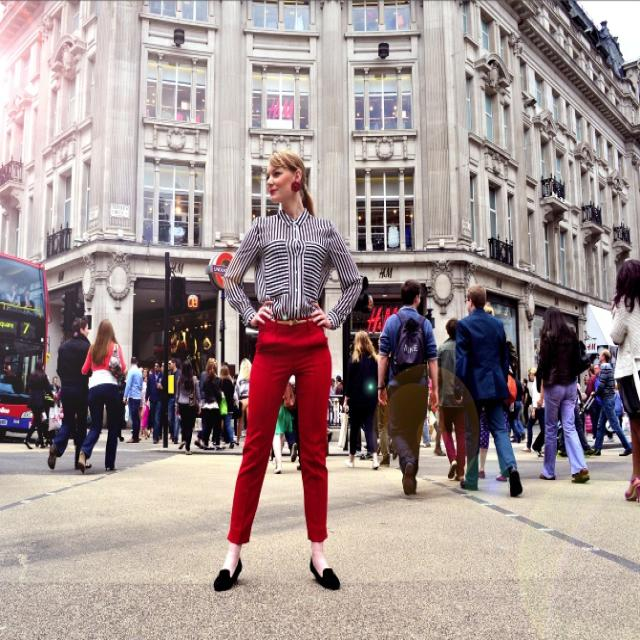body: (207, 148, 366, 598), (450, 281, 526, 498), (376, 275, 442, 498), (534, 303, 592, 486), (76, 316, 127, 473), (45, 313, 94, 472), (609, 255, 639, 508), (478, 308, 512, 484), (342, 328, 381, 472), (588, 346, 634, 458), (438, 316, 467, 484), (376, 331, 400, 467), (21, 357, 55, 451), (558, 381, 596, 457), (270, 381, 298, 476), (174, 358, 201, 455), (198, 359, 224, 452), (520, 365, 546, 455), (588, 363, 616, 443), (194, 356, 218, 449), (120, 354, 144, 446), (589, 363, 616, 444), (232, 357, 253, 447), (104, 365, 128, 442), (144, 360, 165, 444), (219, 363, 237, 450), (166, 358, 184, 444), (506, 369, 526, 444), (530, 364, 546, 457), (219, 359, 236, 443), (419, 408, 446, 456), (512, 376, 527, 442), (283, 405, 300, 462), (572, 401, 588, 453), (522, 377, 533, 429), (19, 290, 34, 328), (139, 394, 151, 441), (4, 283, 21, 312), (333, 374, 345, 407), (156, 360, 169, 390), (141, 366, 150, 408), (518, 381, 525, 424), (49, 375, 60, 396), (51, 384, 62, 400), (268, 446, 276, 464), (138, 368, 152, 378), (437, 259, 448, 271), (230, 372, 240, 384), (330, 378, 336, 397), (174, 357, 182, 368)
